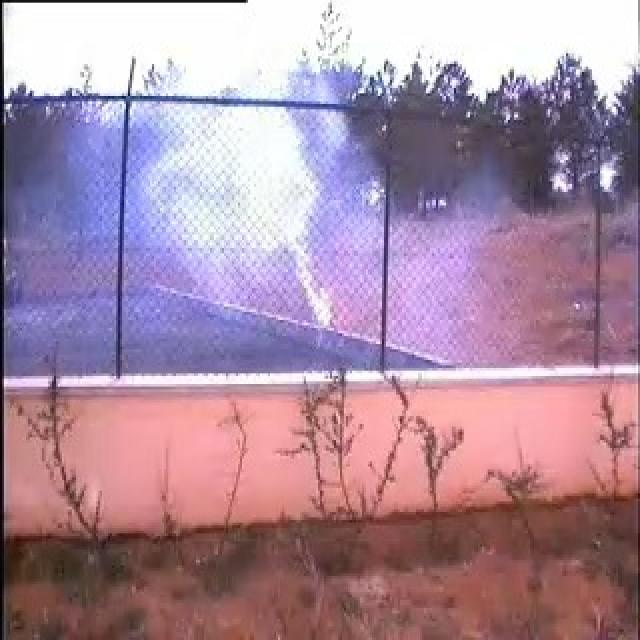smoke: (63, 104, 370, 369)
